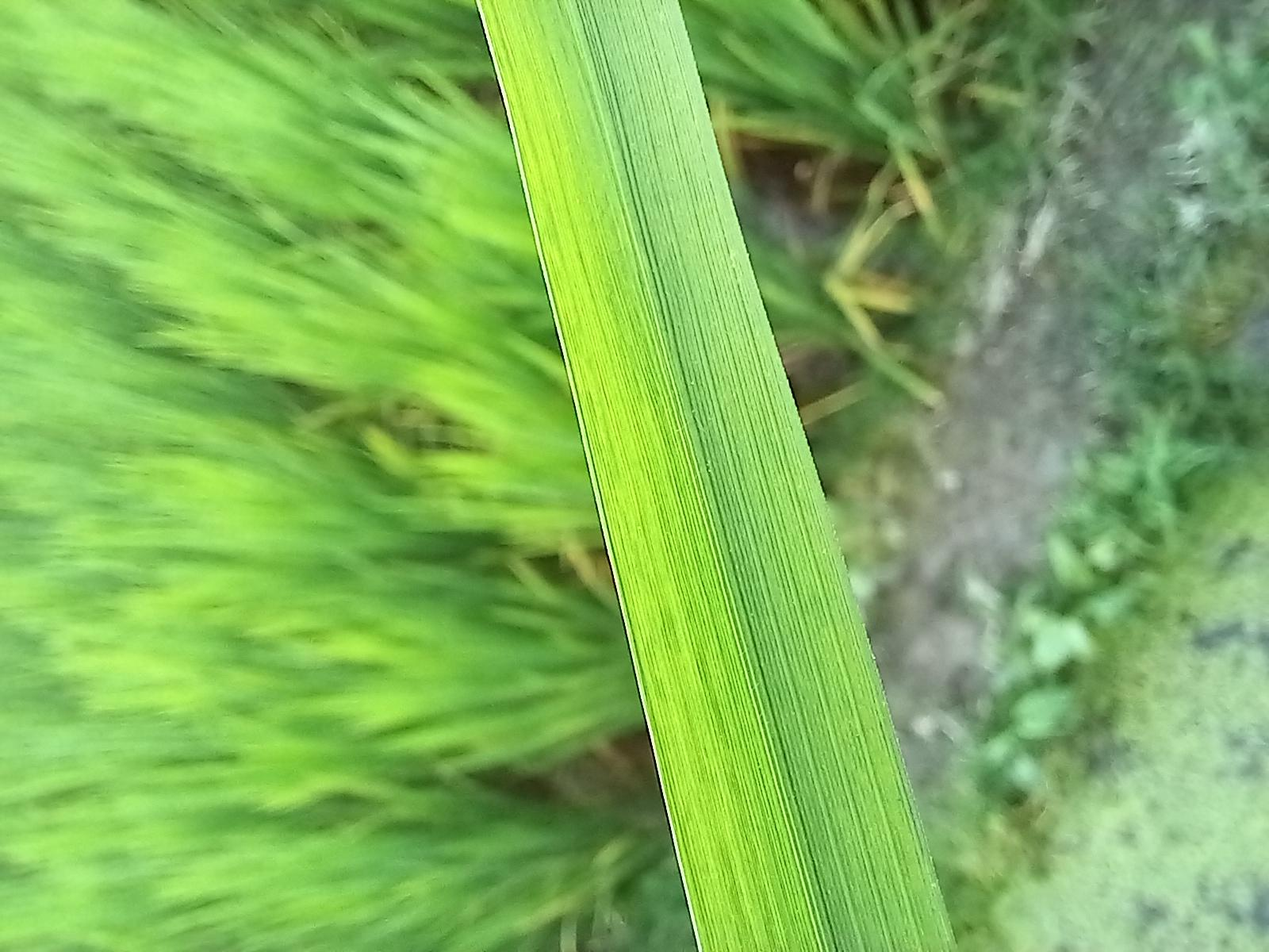Healthy: (1, 361, 1269, 718)
